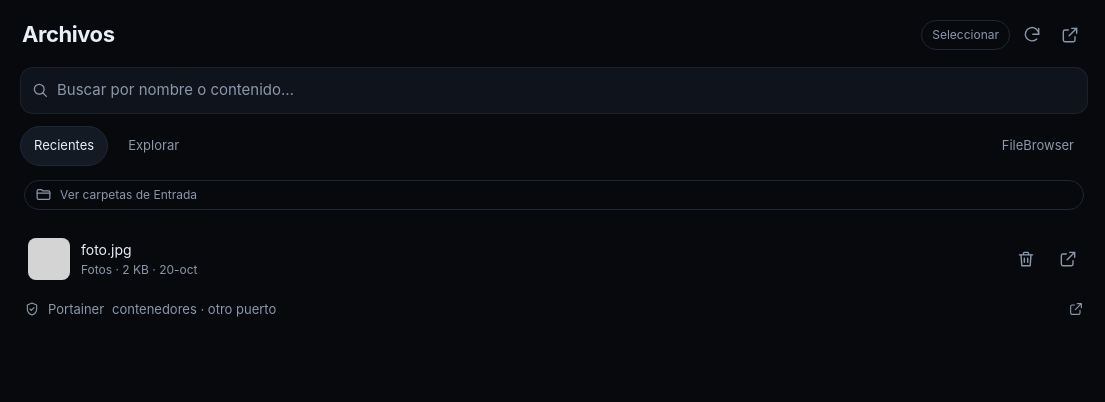
Test: Files · panel NAS nativo › marca varios archivos y pide el ZIP (enlace de un solo uso)
The image size is (1105, 402).
Check: the text "foto.jpg" is shown, box 81,240 -> 132,258
Click the button "Seleccionar". click: x=966, y=34
box: 921,20 -> 1010,50
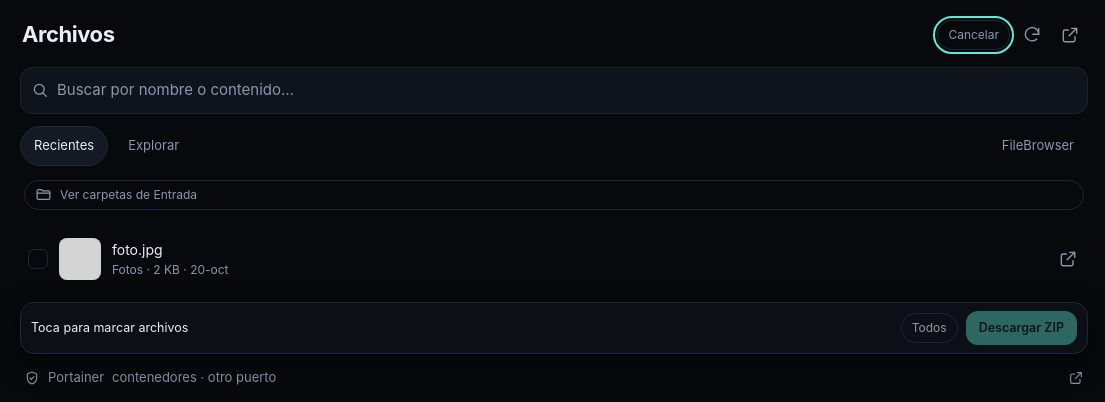
Click the button "foto.jpg Fotos · 2 KB · 20-oct". click: x=80, y=258
box: 20,232 -> 1046,286
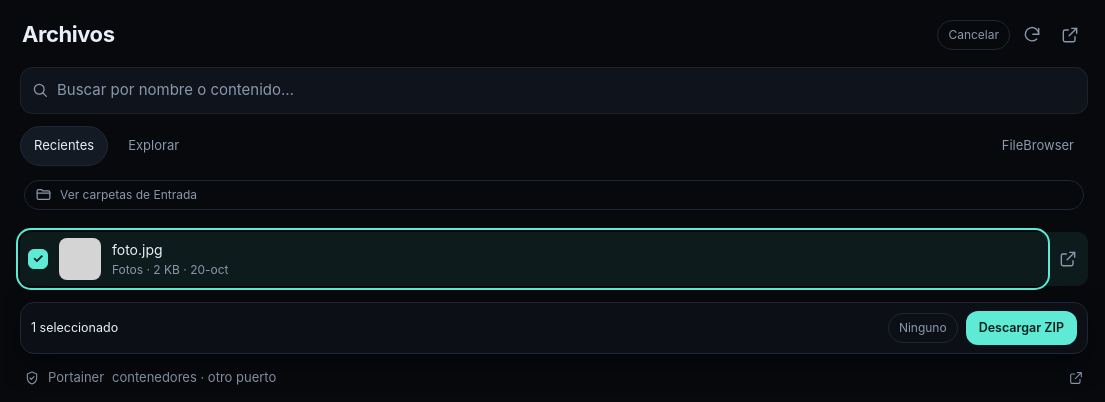
Check: the text "1 seleccionado" is shown, box 31,320 -> 118,334
Click the button "Descargar ZIP". click: x=1021, y=328
box: 966,310 -> 1077,345
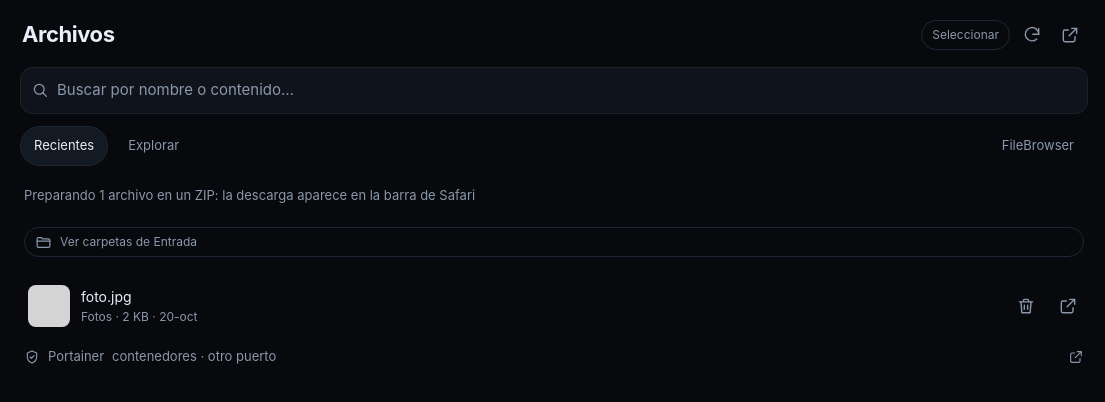
Check: the text "Preparando 1 archivo en un ZIP" is shown, box 24,186 -> 475,202
Check: the button "Seleccionar" is shown, box 921,20 -> 1010,50
